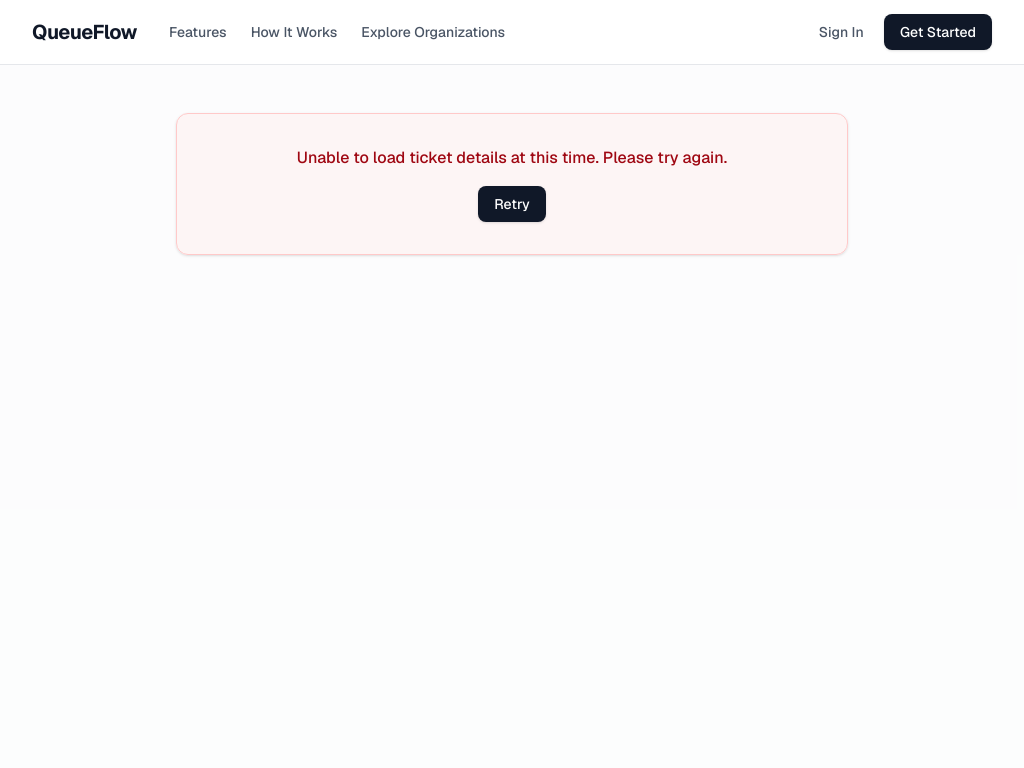
Test: app/tickets/track/[trackingToken]/page (Public Ticket Tracking) › Error handling and recovery › recovers and displays tracking data when Retry button is clicked
Step 1. Click the button "Retry" → (512, 204), box x1=478 y1=186 x2=546 y2=222
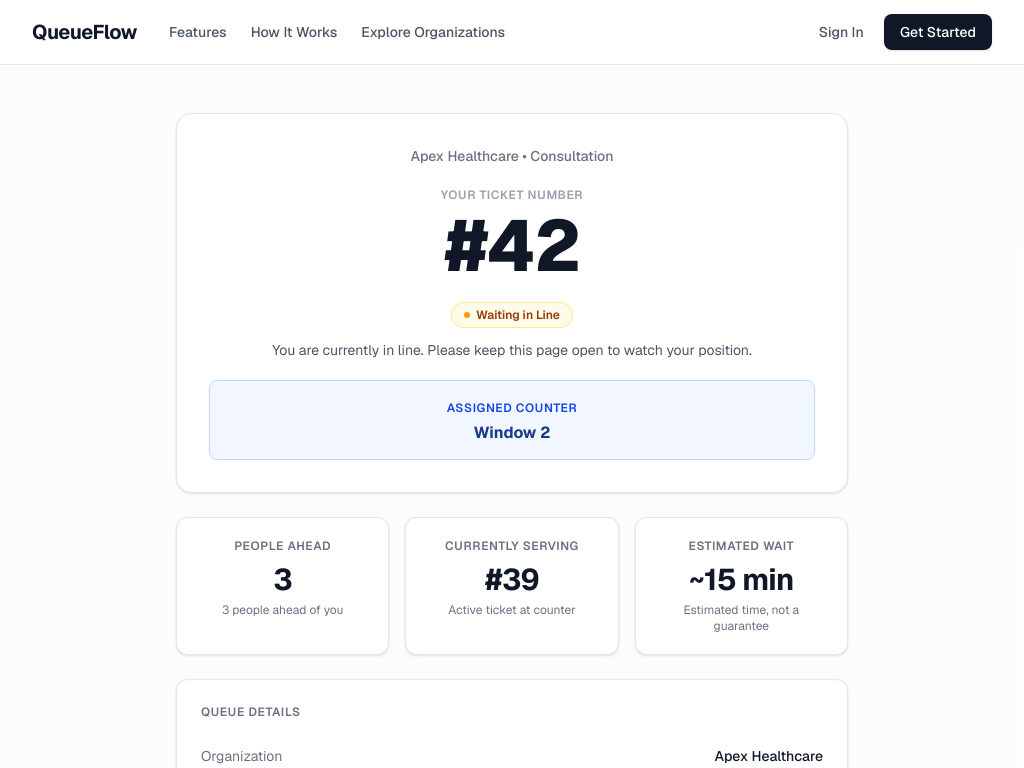
Expected: the heading "#42" is shown, x1=444 y1=199 x2=580 y2=292
Expected: the message "Unable to load ticket details at this time. Please try again. Retry" is gone
